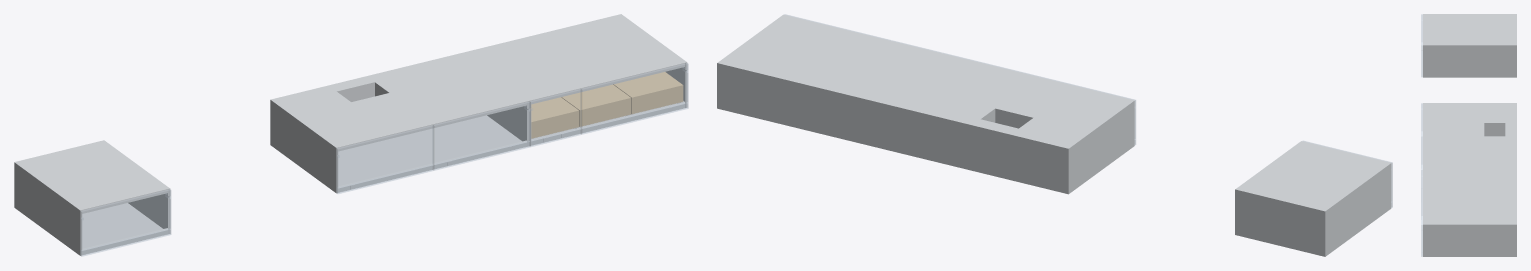
The model's file is modul_U.glb.
3 renders of one model, left to right at view 1: azimuth 30°, elevation 25°; view 2: azimuth 150°, elevation 25°; view 3: azimuth 270°, elevation 25°, orthographic. The views are drawn at different scales.
Parts seen in each view (by area): view 1: U_F_GOVDE__sac, U_A_GOVDE__sac, U_KE_GOVDE__sac, U_ICECEK_YEDEK__karton, U_KE_GOVDE__on_seffaf__KAPAK_U_KE_SAG, U_F_GOVDE__on_seffaf__KAPAK_U_F_SOL, U_F_GOVDE__on_seffaf__KAPAK_U_F_SAG, U_A_GOVDE__on_seffaf__KAPAK_U_A_TEK, U_KE_GOVDE__on_seffaf__KAPAK_U_KE_SOL, U_F_GOVDE__paslanmaz, U_KE_GOVDE__paslanmaz, U_A_GOVDE__paslanmaz (+1 smaller); view 2: U_F_GOVDE__sac, U_KE_GOVDE__sac, U_A_GOVDE__sac, U_F_BACA__sac; view 3: U_KE_GOVDE__sac, U_F_GOVDE__sac, U_A_GOVDE__sac, U_F_BACA__sac, U_KE_GOVDE__on_seffaf__KAPAK_U_KE_SAG, U_A_GOVDE__on_seffaf__KAPAK_U_A_TEK, U_F_GOVDE__on_seffaf__KAPAK_U_F_SAG, U_F_GOVDE__on_seffaf__KAPAK_U_F_SOL.
Boxes of the visible parts, bbox=[...] form: U_F_GOVDE__sac: bbox=[270, 52, 529, 193]; U_A_GOVDE__sac: bbox=[14, 140, 170, 255]; U_KE_GOVDE__sac: bbox=[463, 14, 687, 145]; U_ICECEK_YEDEK__karton: bbox=[530, 72, 683, 138]; U_KE_GOVDE__on_seffaf__KAPAK_U_KE_SAG: bbox=[581, 63, 688, 134]; U_F_GOVDE__on_seffaf__KAPAK_U_F_SOL: bbox=[336, 125, 433, 193]; U_F_GOVDE__on_seffaf__KAPAK_U_F_SAG: bbox=[433, 102, 530, 170]; U_A_GOVDE__on_seffaf__KAPAK_U_A_TEK: bbox=[80, 189, 171, 256]; U_KE_GOVDE__on_seffaf__KAPAK_U_KE_SOL: bbox=[530, 89, 581, 146]; U_F_GOVDE__paslanmaz: bbox=[338, 101, 526, 192]; U_KE_GOVDE__paslanmaz: bbox=[531, 63, 684, 144]; U_A_GOVDE__paslanmaz: bbox=[82, 189, 167, 254]; U_F_GOVDE__sac: bbox=[875, 53, 1134, 194]; U_KE_GOVDE__sac: bbox=[717, 14, 940, 147]; U_A_GOVDE__sac: bbox=[1235, 141, 1391, 256]; U_F_BACA__sac: bbox=[981, 108, 1032, 128]; U_KE_GOVDE__sac: bbox=[1423, 169, 1516, 256]; U_F_GOVDE__sac: bbox=[1423, 103, 1516, 169]; U_A_GOVDE__sac: bbox=[1423, 14, 1516, 77]; U_F_BACA__sac: bbox=[1484, 123, 1505, 136]; U_KE_GOVDE__on_seffaf__KAPAK_U_KE_SAG: bbox=[1421, 188, 1422, 256]; U_A_GOVDE__on_seffaf__KAPAK_U_A_TEK: bbox=[1421, 14, 1422, 77]; U_F_GOVDE__on_seffaf__KAPAK_U_F_SAG: bbox=[1421, 137, 1422, 170]; U_F_GOVDE__on_seffaf__KAPAK_U_F_SOL: bbox=[1421, 103, 1422, 136].
Bounding box in the file's own units: 4.72 × 0.338 × 0.909.
